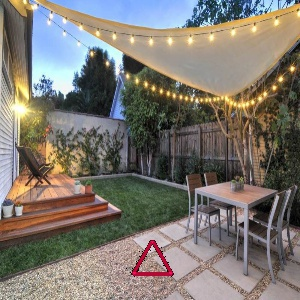triangle: (131, 238, 175, 278)
